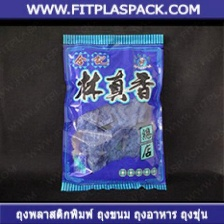snack: (49, 27, 173, 196)
